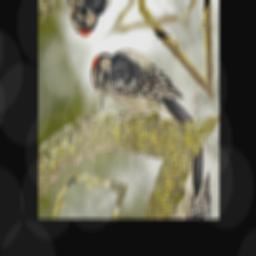Woodpecker: (85, 4, 202, 178)
